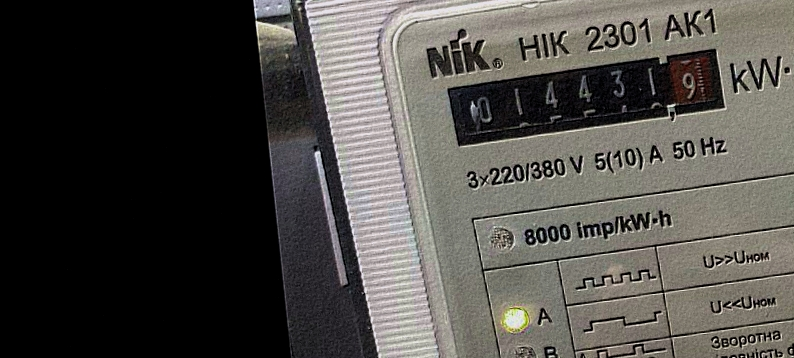0: (474, 91, 498, 126)
1: (510, 83, 531, 118), (645, 64, 662, 97)
3: (609, 67, 631, 101)
4: (540, 76, 565, 111), (575, 70, 596, 106)
9: (680, 68, 700, 101)
screen: (439, 39, 741, 156)
